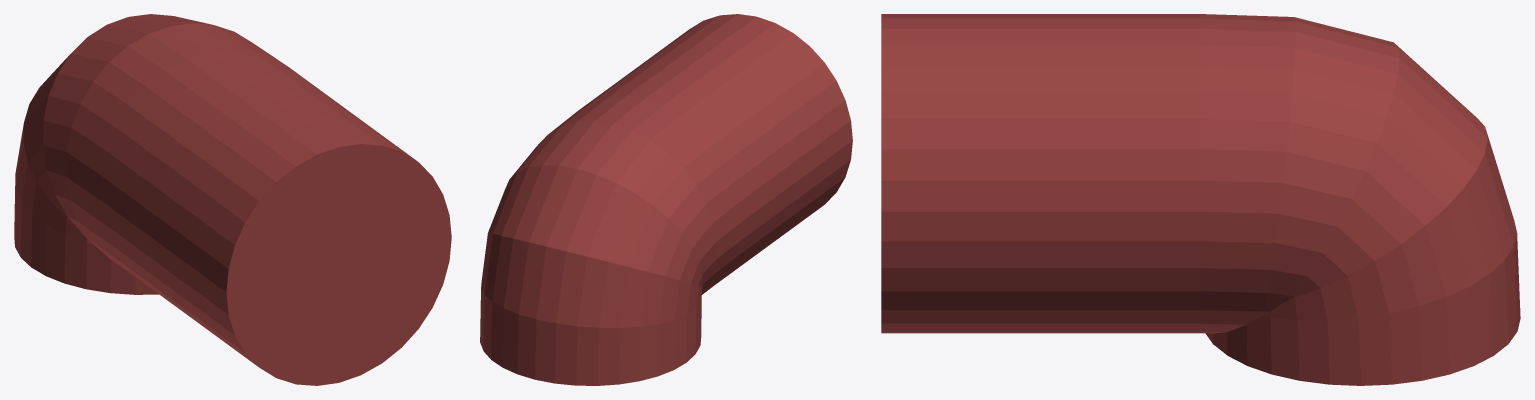
Rendered from Shields-railing2.glb.
The picture shows the model from 3 angles, left to right: view 1: azimuth 30°, elevation 25°; view 2: azimuth 150°, elevation 25°; view 3: azimuth 270°, elevation 25°; orthographic projection. The views are drawn at different scales.
Visible parts, largest first — view 1: Cylinder.001; view 2: Cylinder.001; view 3: Cylinder.001.
Part boxes in pixels (bbox=[...]): Cylinder.001: bbox=[14, 14, 451, 385]; Cylinder.001: bbox=[480, 14, 852, 385]; Cylinder.001: bbox=[881, 14, 1520, 385].
Size of the model in its own units: 0.4 by 0.4011 by 0.8.
